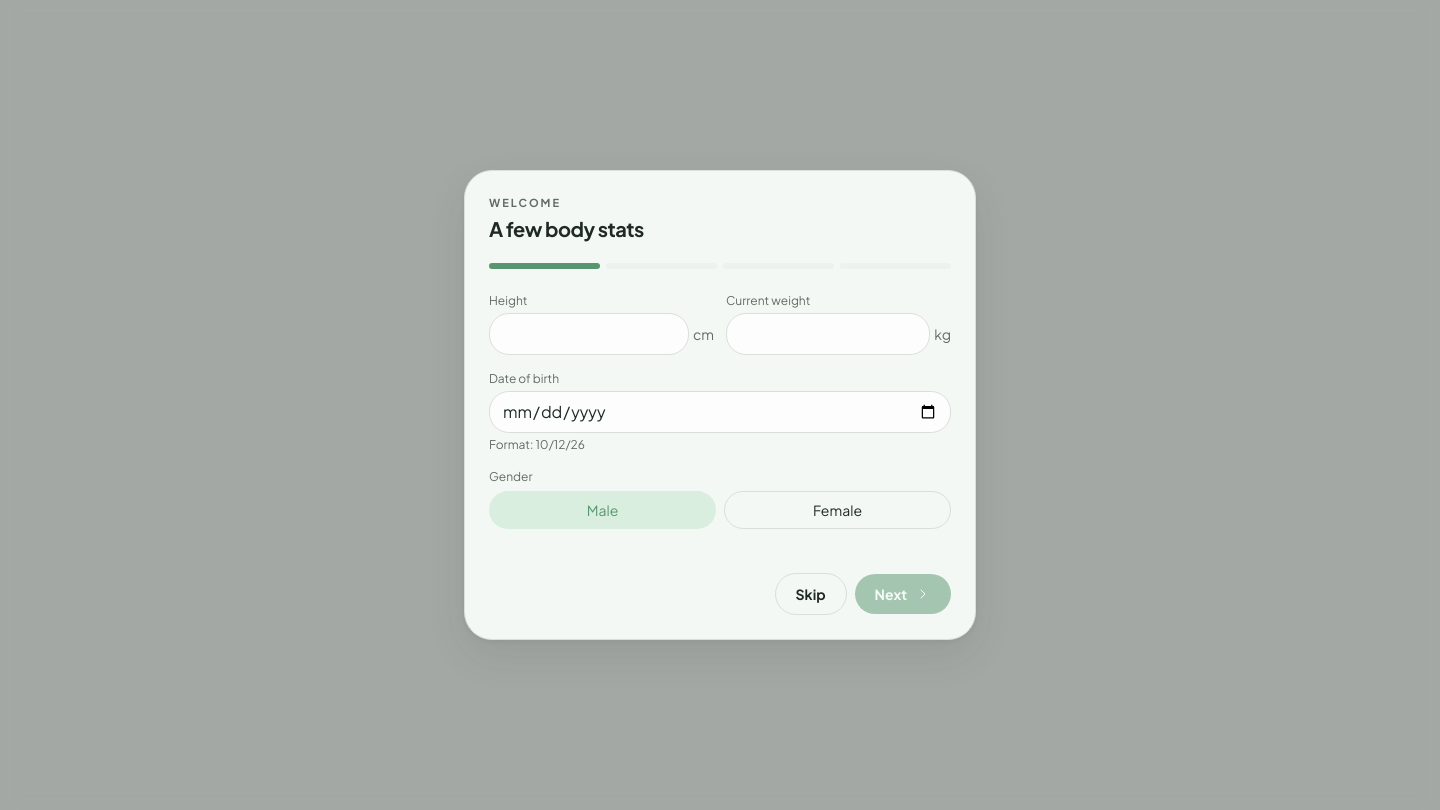
Test: OnboardingWizard step navigation › gates Next on step 0 until height/weight/birth date are filled
The image size is (1440, 810).
Expected: the heading "A few body stats" is shown, [489,215,644,243]
Expected: the button "Next" is disabled, [855,574,951,614]
Type "180" into the field labelled "Height". click: coordinates (589, 334)
box: [489,313,689,355]
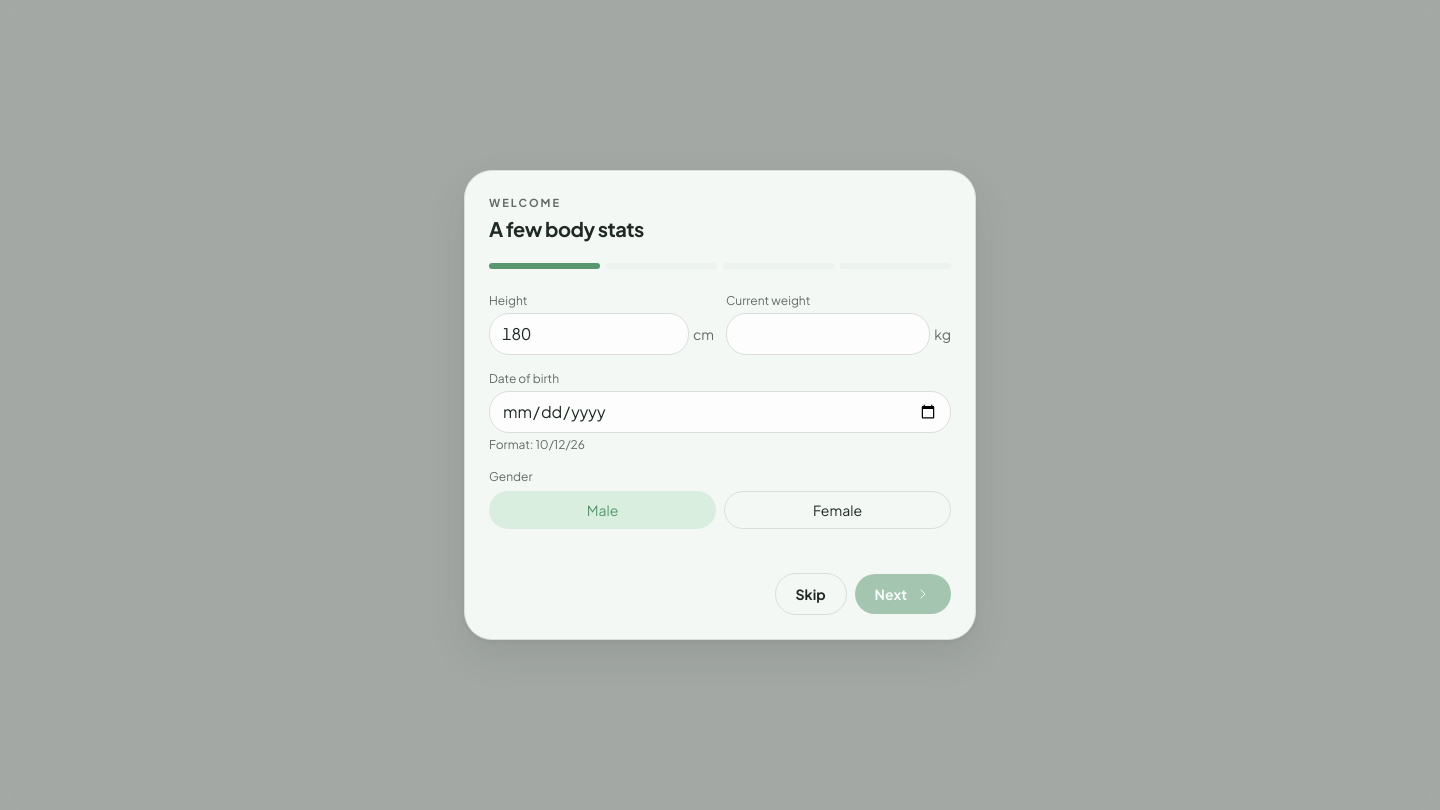
Type "75" into the field labelled "Current weight". click: coordinates (828, 334)
box: [726,313,930,355]
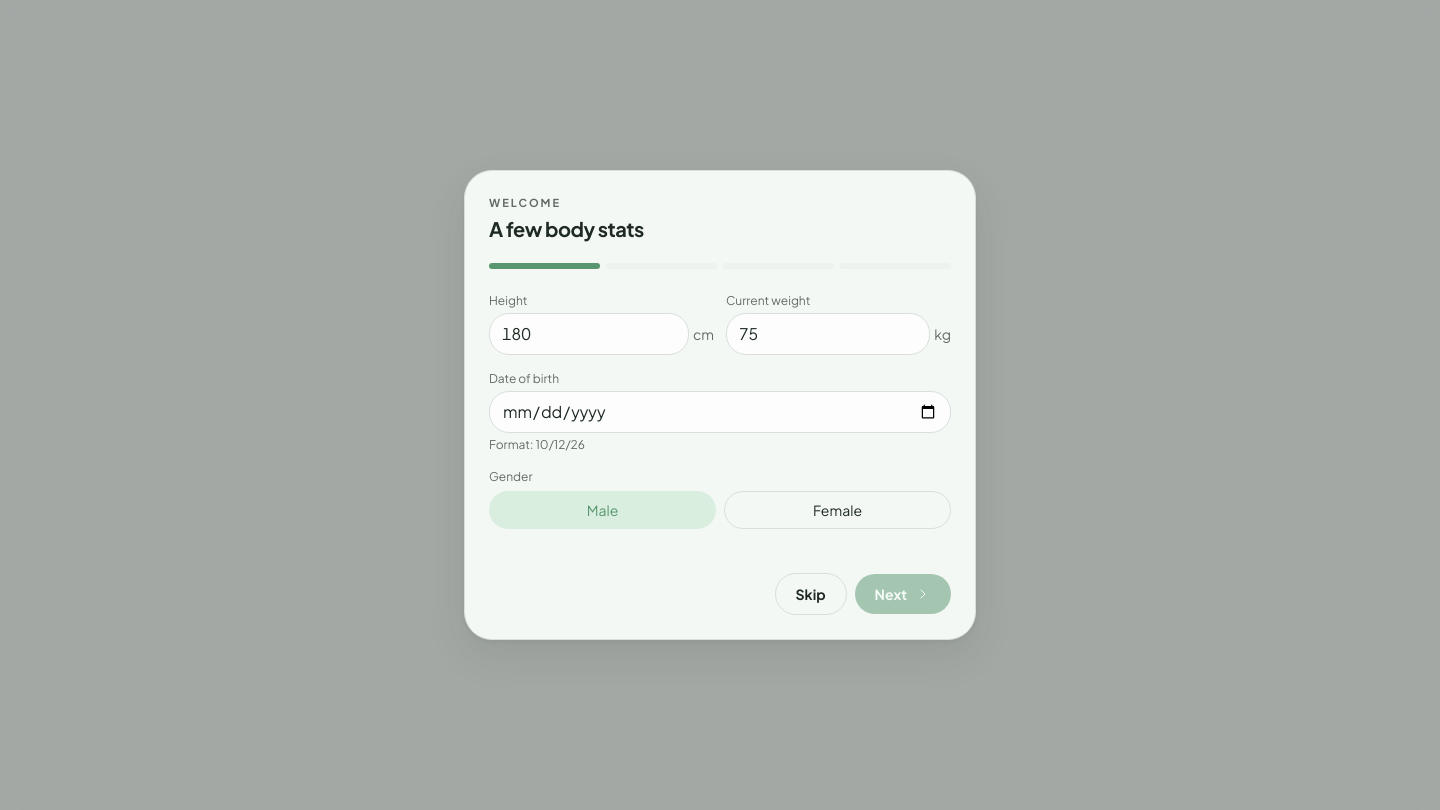
Type "1990-01-01" into the date field labelled "Date of birth". click: coordinates (720, 412)
box: [489,391,951,433]
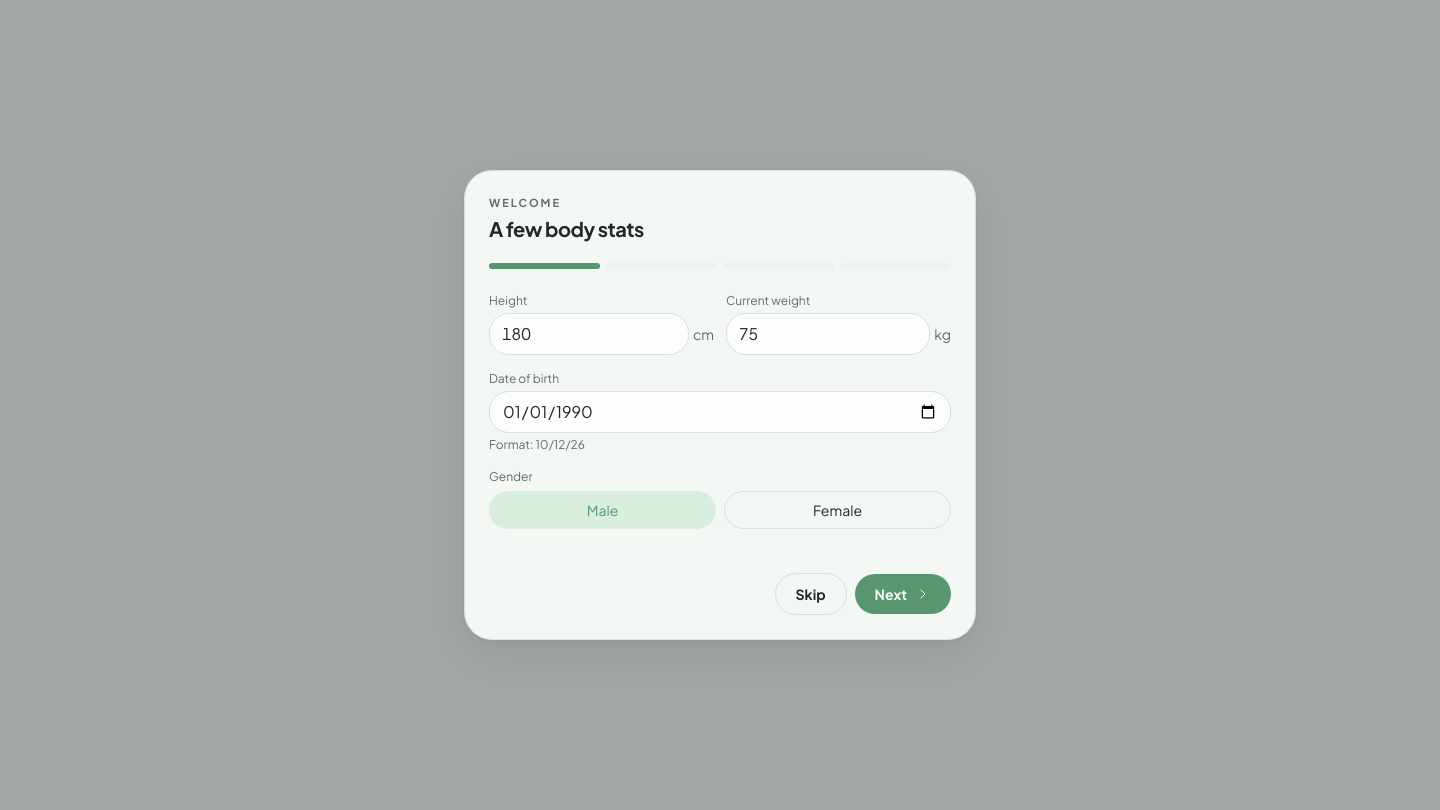
Expected: the button "Next" is enabled
Click the button "Next". click: coordinates (903, 594)
box: [855,574,951,614]
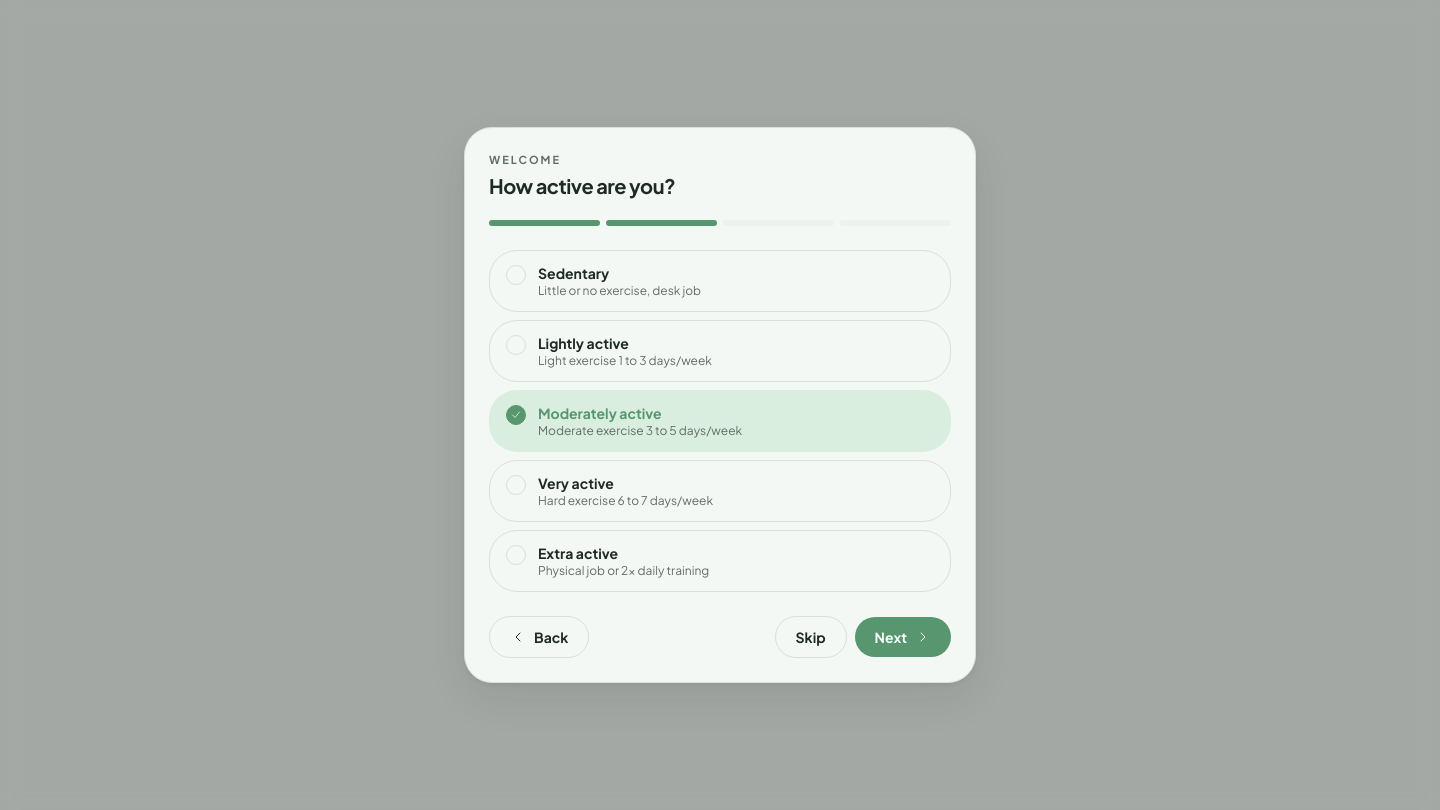
Expected: the heading "How active are you?" is shown, [489,172,675,200]
